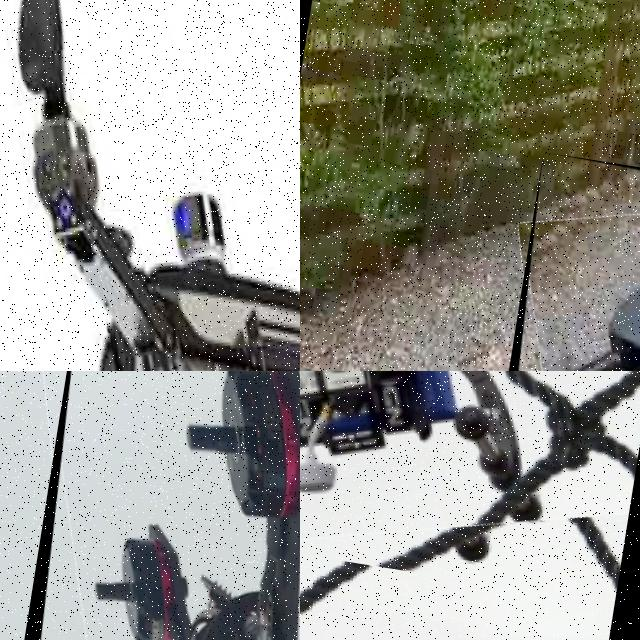0: (496, 152, 640, 371)
drone: (0, 0, 300, 371), (0, 371, 300, 640), (300, 371, 640, 604)
